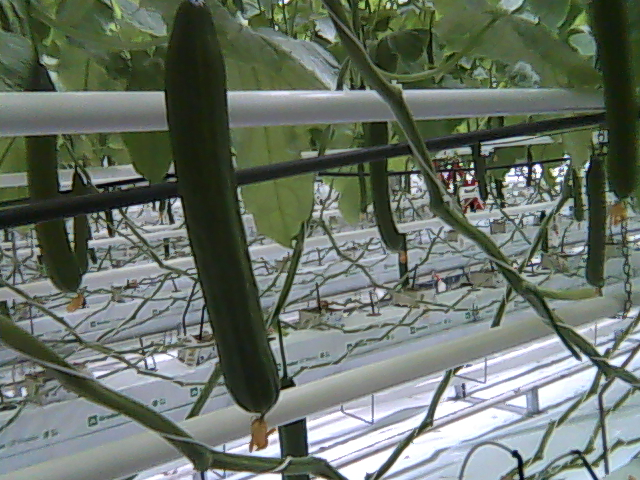concombre: (161, 1, 283, 452), (584, 1, 639, 225)
